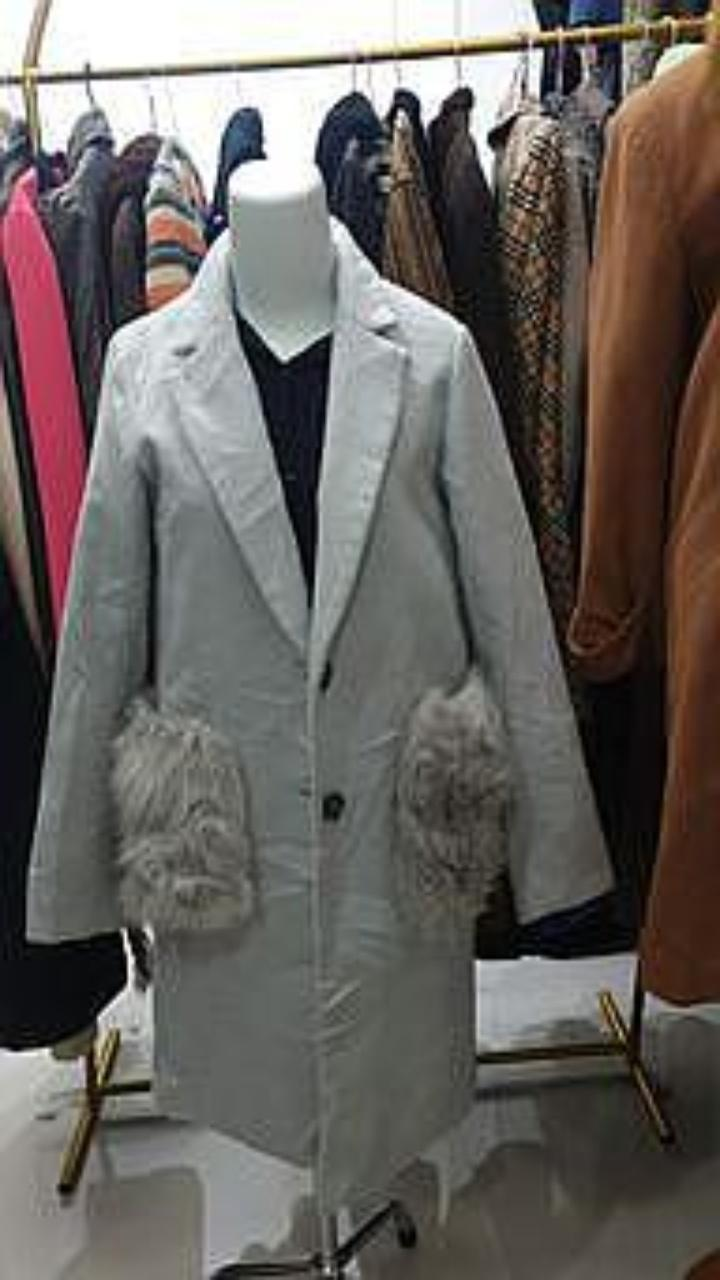Coat: (29, 225, 607, 1210), (571, 50, 719, 1003), (0, 551, 125, 1050), (0, 170, 86, 632), (428, 87, 518, 450), (39, 108, 113, 441), (383, 105, 453, 310)
